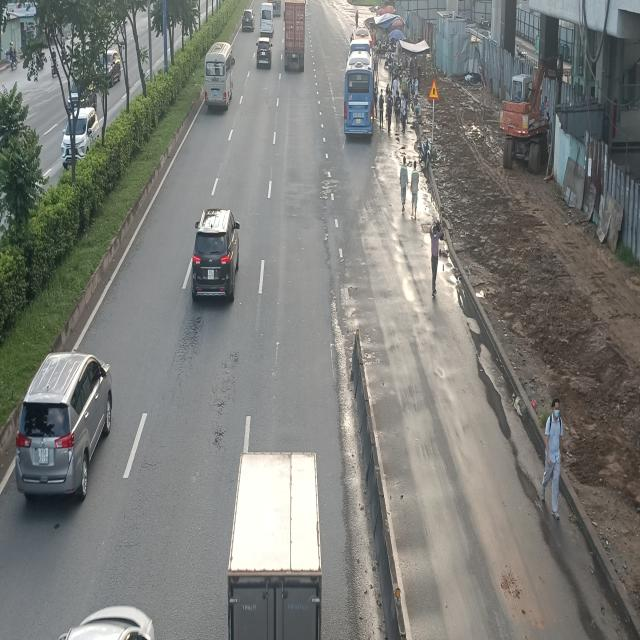car: (14, 351, 114, 504), (190, 207, 242, 300), (257, 39, 274, 71)
coach: (345, 38, 374, 136), (203, 41, 234, 111)
container: (283, 1, 307, 74)
van: (261, 3, 274, 37)
